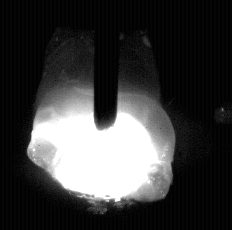arame: (95, 0, 119, 130)
poca: (26, 0, 175, 230)
